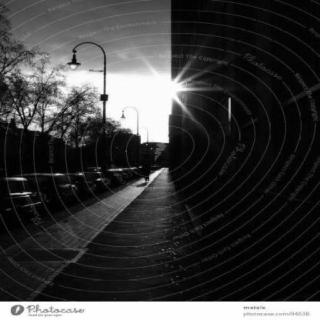other: (126, 66, 186, 130)
